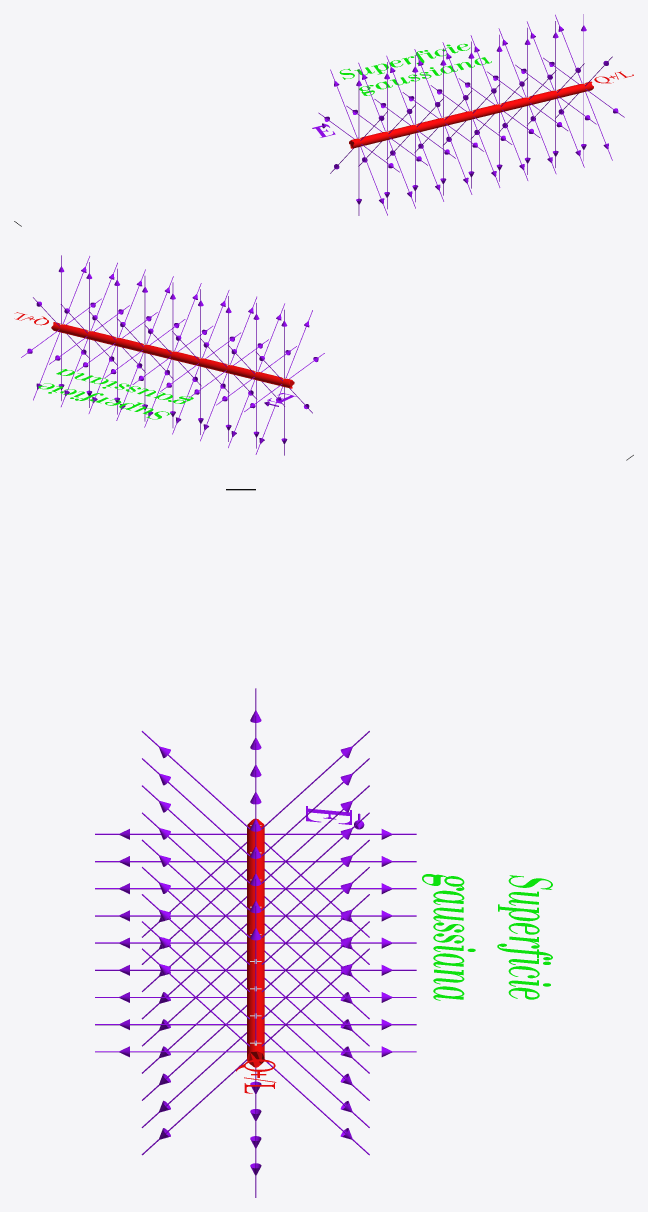
Rendered from linea.glb.
3 views of the same model, one above another, from view 1: azimuth 30°, elevation 25°; view 2: azimuth 150°, elevation 25°; view 3: azimuth 270°, elevation 25° (orthographic). The views are drawn at different scales.
Parts seen in each view (by area): view 1: Sphere.001; view 2: Sphere.001; view 3: Sphere.001.
Part boxes in pixels (x1,y1,x2,y2): Sphere.001: [312, 14, 624, 215]; Sphere.001: [21, 255, 324, 455]; Sphere.001: [95, 688, 552, 1197].
Bounding box in the file's own units: 88.04 × 20 × 28.48.
